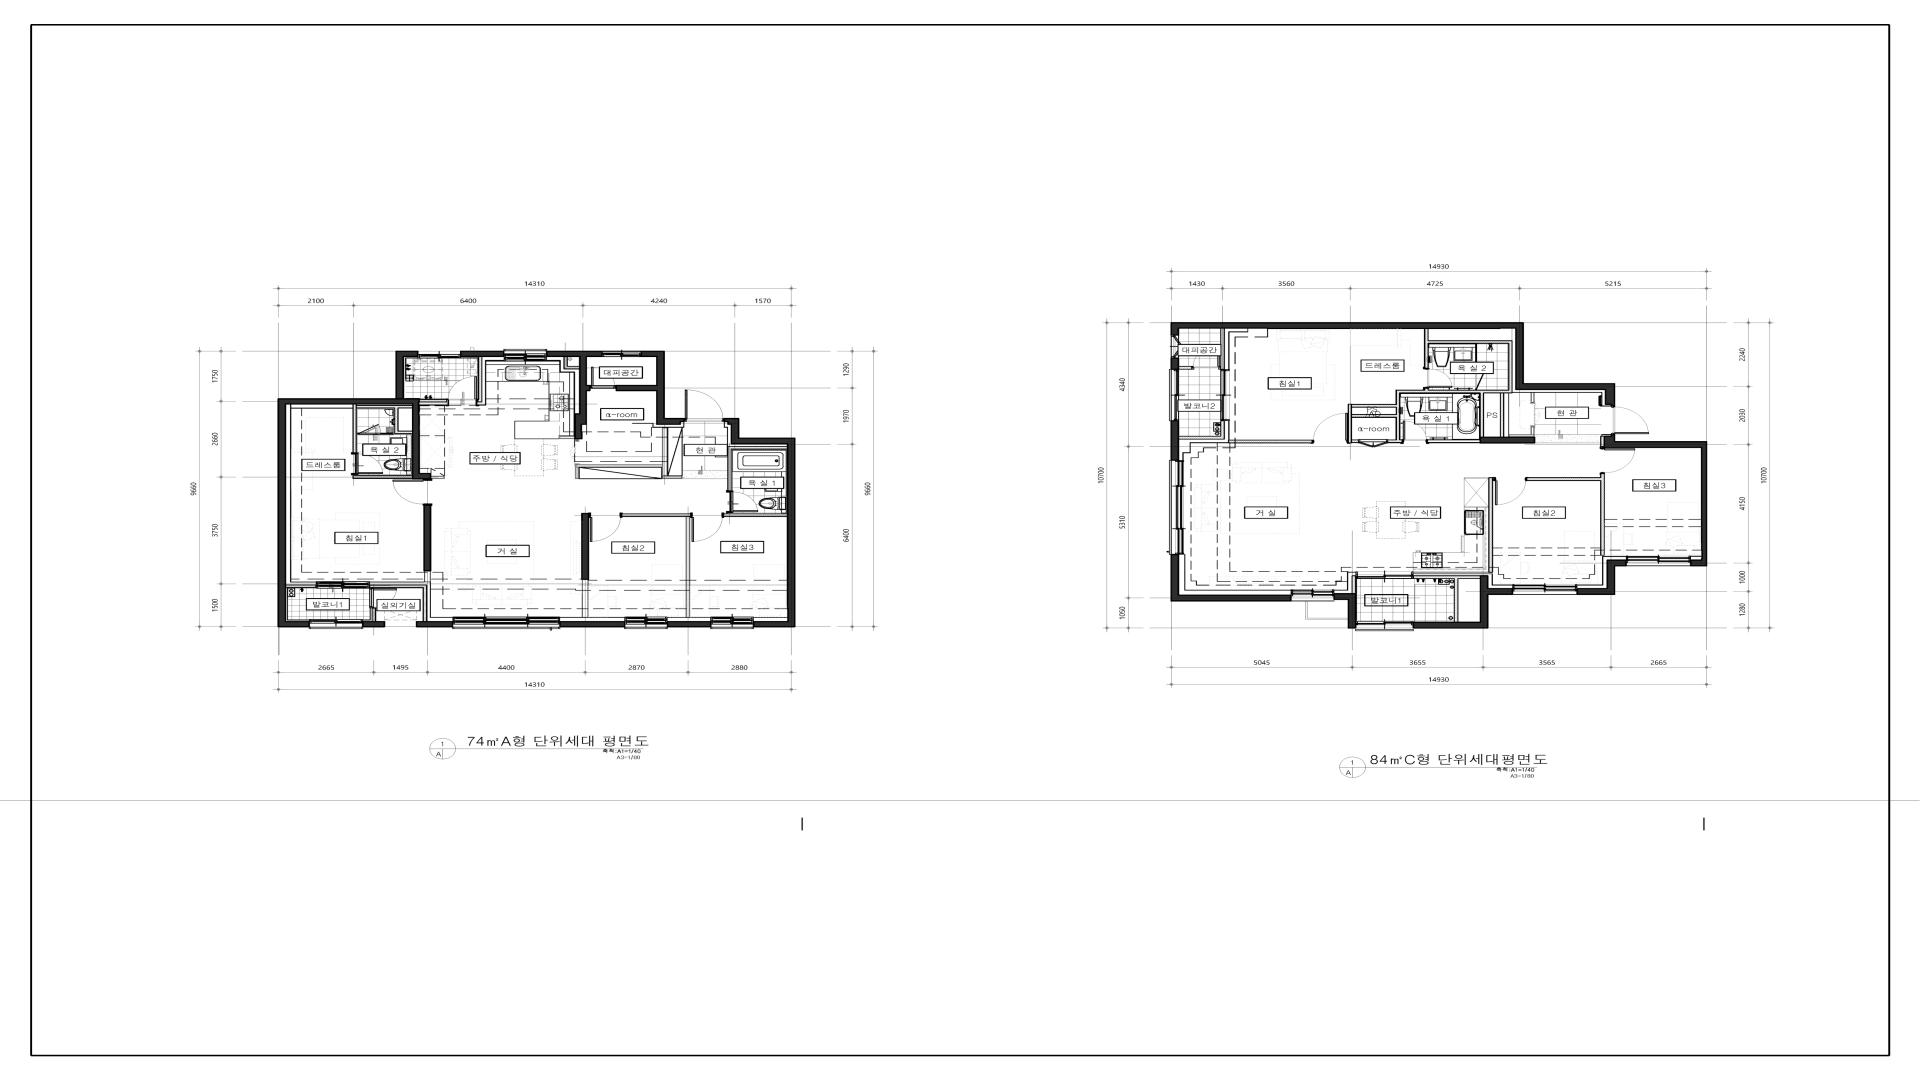door: (684, 388, 724, 423), (1611, 406, 1650, 434), (390, 479, 433, 504), (1312, 413, 1346, 443), (690, 513, 724, 542), (589, 513, 622, 542), (1493, 477, 1527, 505), (1600, 447, 1635, 473), (448, 377, 479, 406), (727, 491, 758, 514), (351, 452, 384, 475), (1423, 368, 1452, 390), (589, 367, 616, 390), (1403, 421, 1427, 444), (369, 588, 397, 608), (357, 423, 382, 435), (1358, 439, 1387, 448), (1474, 375, 1487, 390)
wall: (277, 351, 431, 628), (1171, 322, 1615, 405), (1346, 328, 1513, 443), (724, 418, 795, 628), (1428, 328, 1611, 406), (1605, 434, 1708, 567), (286, 405, 352, 585), (1527, 473, 1605, 555), (1171, 555, 1292, 601), (1414, 575, 1513, 629), (616, 351, 684, 425), (547, 351, 603, 439), (667, 517, 711, 621), (1179, 555, 1291, 595), (369, 571, 454, 621), (1414, 576, 1480, 621), (353, 405, 411, 452), (560, 580, 625, 621), (727, 447, 787, 491), (369, 585, 427, 621), (1179, 421, 1229, 460), (546, 357, 580, 414), (1576, 559, 1627, 595), (724, 422, 787, 447), (1577, 556, 1626, 588), (1414, 574, 1513, 588), (1505, 393, 1535, 436), (575, 464, 662, 479), (477, 357, 504, 405), (662, 427, 683, 479), (1225, 328, 1247, 369), (1179, 421, 1225, 439), (1333, 593, 1356, 628), (286, 588, 309, 621), (582, 514, 589, 580), (423, 506, 431, 571), (1335, 572, 1356, 593), (559, 621, 625, 628), (1489, 477, 1493, 572), (1480, 436, 1535, 443), (1171, 421, 1179, 460), (460, 351, 504, 357), (667, 621, 711, 628), (622, 513, 691, 517), (415, 621, 452, 628), (352, 475, 411, 479), (1229, 440, 1312, 443), (1428, 439, 1480, 443), (563, 357, 579, 369), (479, 357, 483, 402), (724, 514, 787, 517), (653, 422, 684, 427), (1221, 328, 1225, 369), (363, 621, 385, 628), (363, 608, 372, 621), (1171, 357, 1179, 369), (286, 585, 315, 588), (419, 400, 447, 402), (419, 402, 447, 405), (1353, 576, 1357, 593), (372, 608, 376, 621), (1691, 555, 1701, 559), (431, 476, 444, 479), (1179, 367, 1192, 369), (1601, 434, 1611, 436), (1601, 436, 1604, 447)
window: (1168, 460, 1184, 555), (454, 616, 560, 629), (1627, 556, 1691, 567), (1513, 584, 1576, 595), (1356, 621, 1412, 632), (1168, 369, 1179, 421), (1291, 589, 1333, 601), (625, 617, 667, 629), (711, 617, 753, 629), (504, 349, 546, 361), (309, 620, 363, 629), (1221, 369, 1229, 421), (1357, 572, 1412, 579), (316, 582, 369, 588), (418, 351, 460, 359), (603, 351, 641, 357), (1171, 335, 1179, 357)
